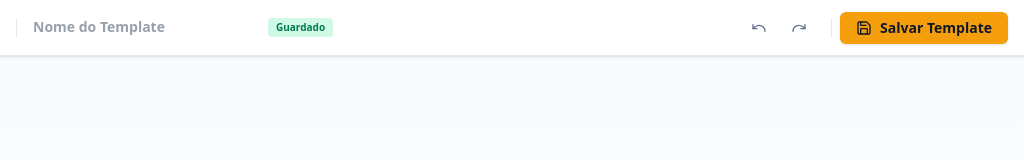
EditorTopbar › deve exibir erro de validação ao tentar salvar um template sem nome
What coordinates should you click on to do the following:
click the button "Salvar Template"
I would click on:
 (924, 28)
Its box is [840,12,1008,44].
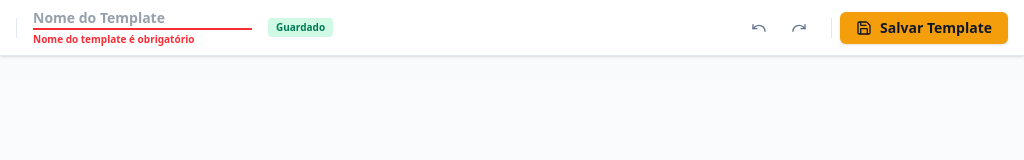
Result: the text "Nome do template é obrigatório" is shown at [33,32,194,46]
